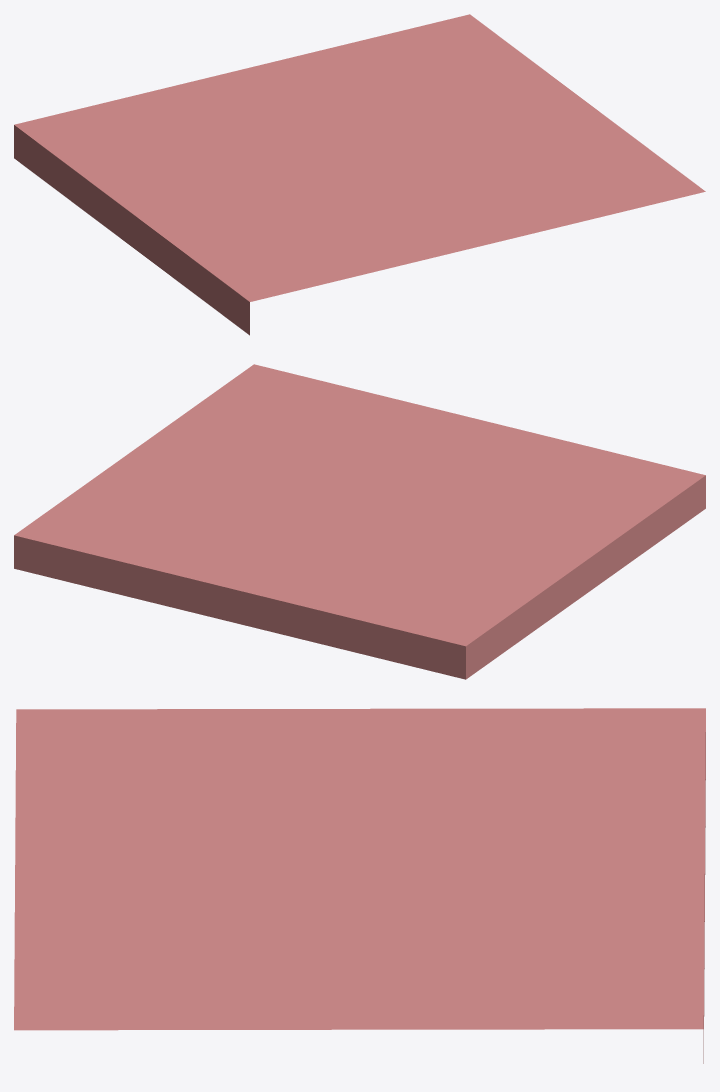
The model's file is Side_Walk_Turn.fbx.
3 renders of one model, top to bottom at view 1: azimuth 30°, elevation 25°; view 2: azimuth 150°, elevation 25°; view 3: azimuth 270°, elevation 25°, orthographic. The views are drawn at different scales.
Visible parts, largest first — view 1: Mesh_Turn; view 2: Mesh_Turn; view 3: Mesh_Turn.
Part boxes in pixels (left/top/right/bottom): Mesh_Turn: left=14, top=14, right=705, bottom=335; Mesh_Turn: left=14, top=364, right=705, bottom=679; Mesh_Turn: left=14, top=708, right=705, bottom=1063.
Bounding box in the file's own units: 31.22 × 2.32 × 28.28.
